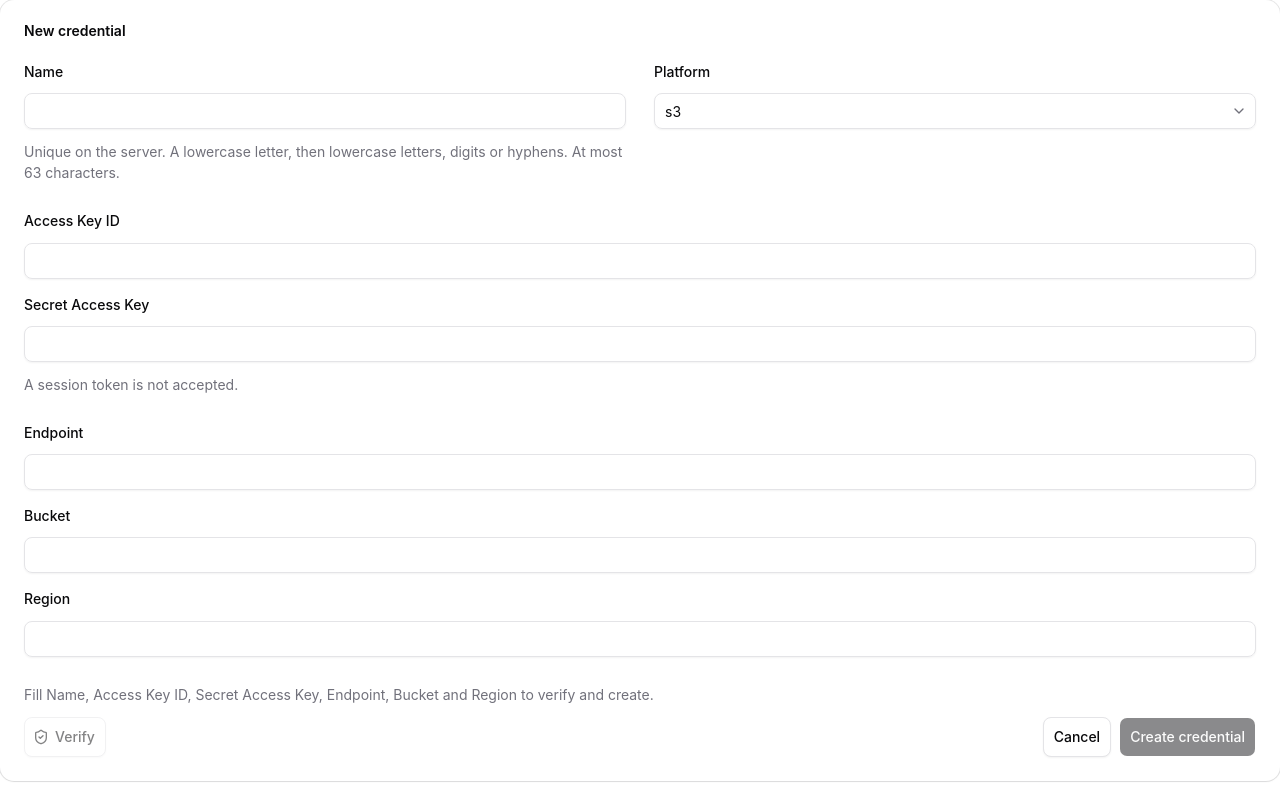
CredentialFormScreen › keeps the storage platforms in a flat list
This screenshot has width=1280, height=800.
Check: the field labelled "Name" is shown, box [24,93,626,129]
Replace the text in the dropdown labelled "Platform" with "s". click: (941,111)
box: [655,93,1227,129]
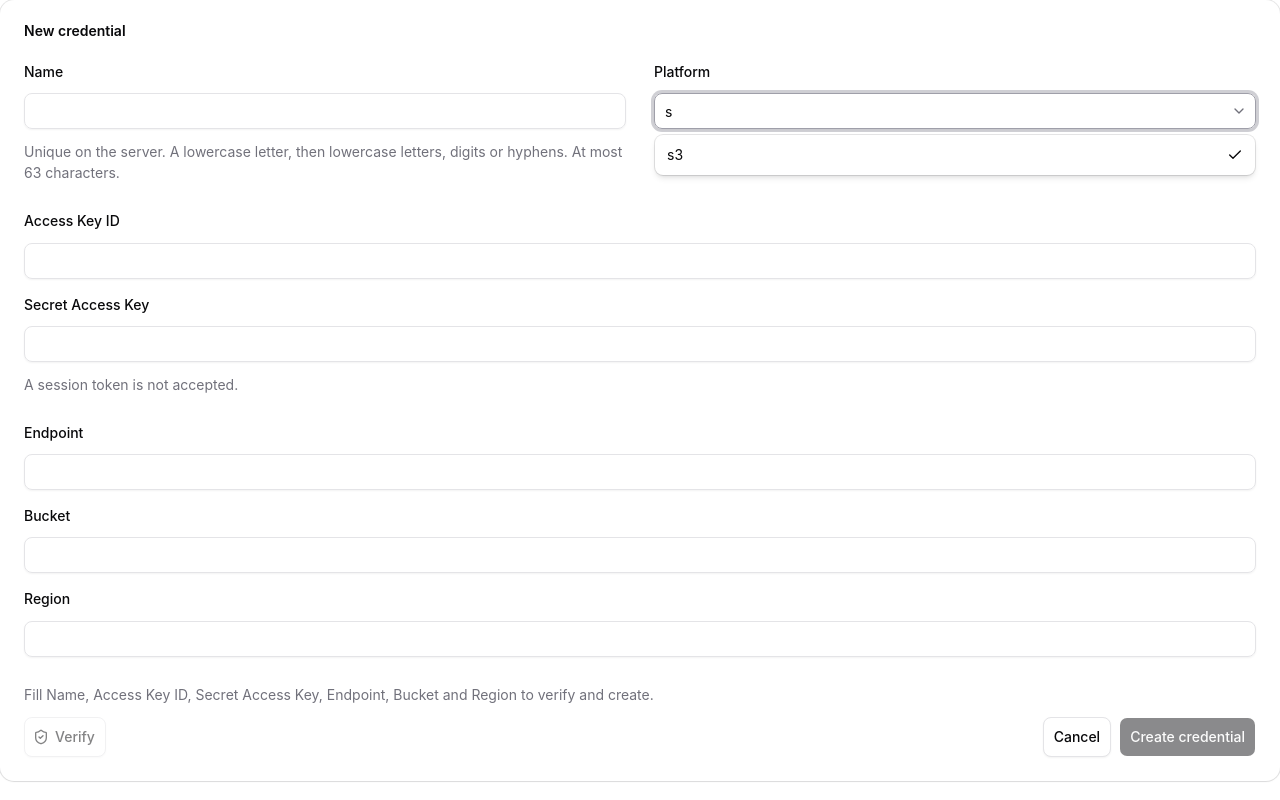
Check: the option "s3" is shown, box [667,146,1243,163]
